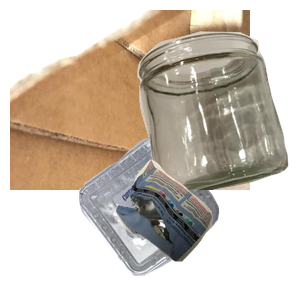cardboard: (10, 10, 250, 190)
glass: (135, 29, 300, 209)
plastic: (77, 133, 289, 300)
trash: (113, 157, 300, 300)
